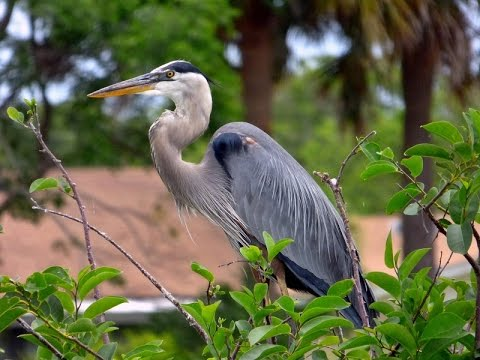heron: (85, 58, 392, 336)
